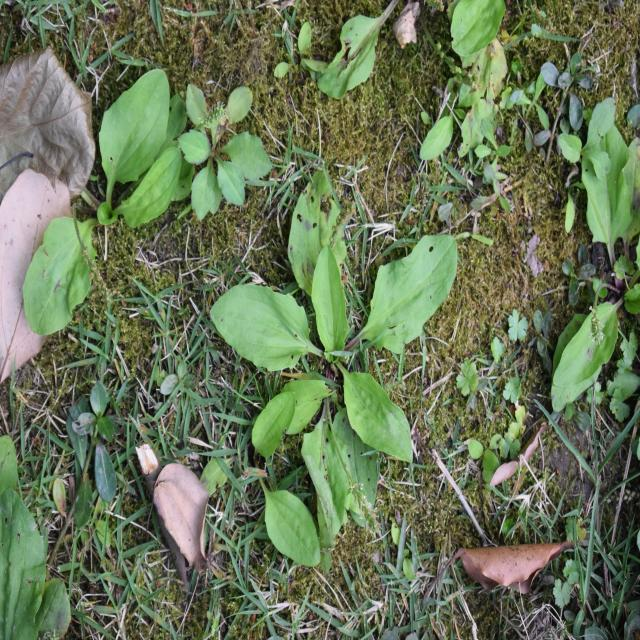plantain: (224, 222, 444, 502)
